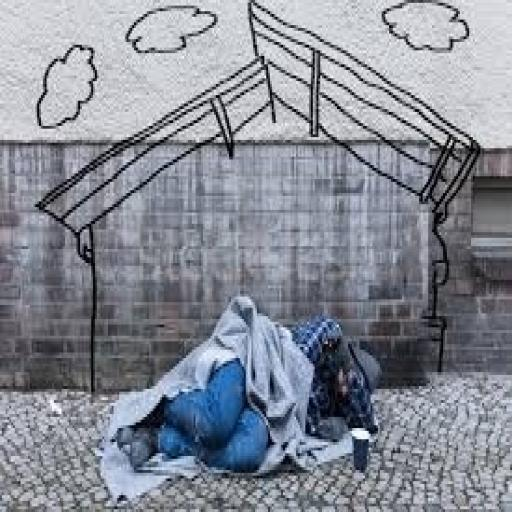sleeping: (114, 291, 380, 476)
